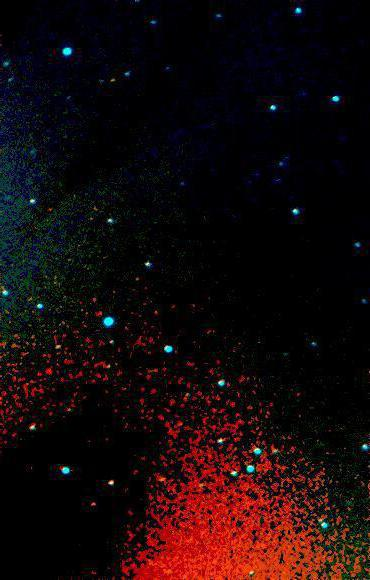star: (99, 65, 129, 95)
